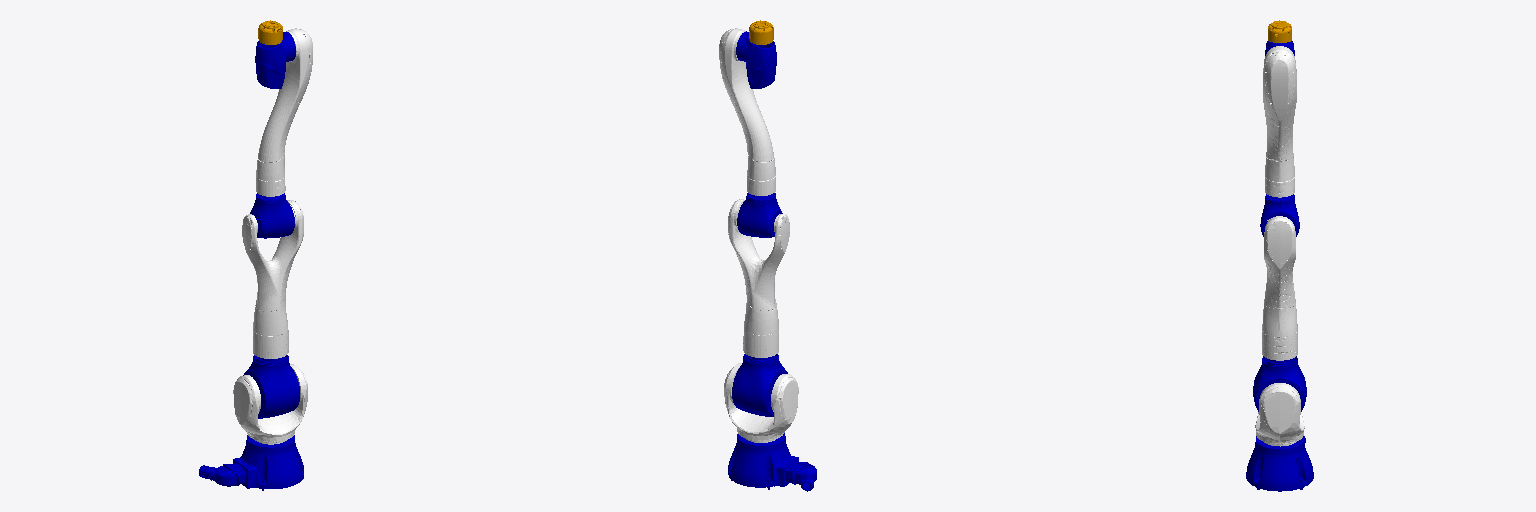
The robot description file, URDF, robot "mira":
<?xml version="1.0" ?>
<!-- =================================================================================== -->
<!-- |    This document was autogenerated by xacro from mira.urdf.xacro                | -->
<!-- |    EDITING THIS FILE BY HAND IS NOT RECOMMENDED                                 | -->
<!-- =================================================================================== -->
<robot name="mira" xmlns:controller="http://playerstage.sourceforge.net/gazebo/xmlschema/#controller" xmlns:interface="http://playerstage.sourceforge.net/gazebo/xmlschema/#interface" xmlns:sensor="http://playerstage.sourceforge.net/gazebo/xmlschema/#sensor" xmlns:xacro="http://wiki.ros.org/xacro">
  <!-- arm -->
  <!-- Encoder offsets are not included here but set in a separate config file -->
  <material name="blue">
    <color rgba="0 0 0.8 1"/>
  </material>
  <material name="white">
    <color rgba="1 1 1 1"/>
  </material>
  <material name="MelonYellow">
    <color rgba="1.0 0.6 0.0 1.0"/>
  </material>
  <link name="root_link">
		</link>
  <joint name="root_joint" type="fixed">
    <!-- joint1 base_to_right_leg 0.2945 -->
    <origin rpy="0 0 1.5708" xyz="0 0 0.0"/>
    <axis xyz="0 0 1"/>
    <parent link="root_link"/>
    <child link="base_link"/>
  </joint>
  <link name="base_link">
    <!-- link0 -->
    <inertial>
      <mass value="9.02994035"/>
      <origin rpy="0 0 0" xyz="-0.00864914 0.00066084 0.09191042"/>
      <!-- did not chenge inertia values -->
      <inertia ixx="0.04871169" ixy="0.00072792" ixz="-0.00354042" iyy="0.06082174" iyz="0.00036285" izz="0.06803946"/>
    </inertial>
    <visual>
      <origin rpy="0 0 0" xyz="0 0 0"/>
      <geometry>
        <mesh filename="package://mira_description/meshes/mira/Link0.stl"/>
      </geometry>
      <material name="blue"/>
    </visual>
    <collision>
      <origin rpy="0 0 0" xyz="0 0 0"/>
      <geometry>
        <mesh filename="package://mira_description/meshes/collision/Link0.stl"/>
      </geometry>
      <material name="blue"/>
    </collision>
  </link>
  <link name="link1">
    <!-- link1 right_leg-->
    <inertial>
      <mass value="8.81388995"/>
      <origin rpy="0 0 0" xyz="0.00009227 0.01727770 -0.09151695"/>
      <inertia ixx="0.11695855" ixy="-0.00006599" ixz="-0.00007443" iyy="0.09523956" iyz="-0.01391589" izz="0.05142057"/>
    </inertial>
    <visual>
      <origin rpy="0 0 0" xyz="0 0 0"/>
      <geometry>
        <mesh filename="package://mira_description/meshes/mira/Link1.stl"/>
      </geometry>
      <material name="white"/>
    </visual>
    <collision>
      <origin rpy="0 0 0" xyz="0 0 0"/>
      <geometry>
        <mesh filename="package://mira_description/meshes/collision/Link1.stl"/>
      </geometry>
      <material name="white"/>
    </collision>
  </link>
  <joint name="joint1" type="revolute">
    <!-- joint1 base_to_right_leg 0.2945 -->
    <origin rpy="0 0 0" xyz="0 0 0.353"/>
    <axis xyz="0 0 1"/>
    <limit effort="1260" lower="-4.7139" upper="4.7139" velocity="7.60"/>
    <parent link="base_link"/>
    <child link="link1"/>
  </joint>
  <link name="link2">
    <!-- link2 right_base -->
    <inertial>
      <mass value="10.73876455"/>
      <origin rpy="0 0 0" xyz="0.00005095 -0.02980593 0.00384129"/>
      <inertia ixx="0.08469338" ixy="-0.00000976" ixz="0.00000284" iyy="0.04466526" iyz="-0.00106970" izz="0.08929344"/>
    </inertial>
    <visual>
      <origin rpy="0 0 0" xyz="0 0 0"/>
      <geometry>
        <mesh filename="package://mira_description/meshes/mira/Link2.stl"/>
      </geometry>
      <material name="blue"/>
    </visual>
    <collision>
      <origin rpy="0 0 0" xyz="0 0 0"/>
      <geometry>
        <mesh filename="package://mira_description/meshes/collision/Link2.stl"/>
      </geometry>
      <material name="blue"/>
    </collision>
  </link>
  <joint name="joint2" type="revolute">
    <!-- joint2 right_base_joint -->
    <origin rpy="-1.57039 0 0" xyz="-4.13079e-05 -5.3146e-06 -2.13721e-09"/>
    <axis xyz="0 0 1"/>
    <limit effort="710" lower="-2.11" upper="2.11" velocity="7.16"/>
    <safety_controller k_position="100" k_velocity="2" soft_lower_limit="-2.105948851735" soft_upper_limit="2.105948851735"/>
    <dynamics damping="13.0" friction="9.0"/>
    <parent link="link1"/>
    <child link="link2"/>
  </joint>
  <link name="link3">
    <!-- link3 right_front_wheel -->
    <inertial>
      <mass value="7.80048461"/>
      <origin rpy="0 0 0" xyz="0.00000508 -0.01311256 -0.29310398"/>
      <inertia ixx="0.37362453" ixy="-0.00000061" ixz="-0.00001502" iyy="0.36314616" iyz="0.02636093" izz="0.02643739"/>
    </inertial>
    <visual>
      <origin rpy="0 0 0" xyz="0 0 0"/>
      <geometry>
        <mesh filename="package://mira_description/meshes/mira/Link3.stl"/>
      </geometry>
      <material name="white"/>
    </visual>
    <collision>
      <origin rpy="0 0 0" xyz="0 0 0"/>
      <geometry>
        <mesh filename="package://mira_description/meshes/collision/Link3.stl"/>
      </geometry>
      <material name="white"/>
    </collision>
  </link>
  <joint name="joint3" type="revolute">
    <!-- joint3 right_front_wheel_joint -->
    <origin rpy="1.56916 0 0" xyz="7.86969e-05 -0.702307 0.00115197"/>
    <axis xyz="0 0 1"/>
    <limit effort="380" lower="-4.7139" upper="4.7139" velocity="9.43"/>
    <safety_controller k_position="100" k_velocity="2" soft_lower_limit="-3.05948851735" soft_upper_limit="3.05948851735"/>
    <dynamics damping="10.0" friction="4.5"/>
    <parent link="link2"/>
    <child link="link3"/>
  </joint>
  <link name="link4">
    <!-- link4 right_back_wheel -->
    <inertial>
      <mass value="4.90782352"/>
      <origin rpy="0 0 0" xyz="0.00000273   -0.02342897   -0.00561818"/>
      <inertia ixx="0.02108339" ixy="-0.00000071" ixz="-0.00000036" iyy="0.01108371" iyz="0.00064263" izz="0.02077348"/>
    </inertial>
    <visual>
      <origin rpy="0 0 0" xyz="0 0 0"/>
      <geometry>
        <mesh filename="package://mira_description/meshes/mira/Link4.stl"/>
      </geometry>
      <material name="blue"/>
    </visual>
    <collision>
      <origin rpy="0 0 0" xyz="0 0 0"/>
      <geometry>
        <mesh filename="package://mira_description/meshes/collision/Link4.stl"/>
      </geometry>
      <material name="blue"/>
    </collision>
  </link>
  <joint name="joint4" type="revolute">
    <!-- joint4 right_back_wheel_joint -->
    <origin rpy="-1.57108 0 0" xyz="0.000246029 -0.000361385 1.01006e-07"/>
    <axis xyz="0 0 1"/>
    <limit effort="70" lower="-2.61" upper="2.61" velocity="17.4"/>
    <safety_controller k_position="100" k_velocity="2" soft_lower_limit="-2.55948851735" soft_upper_limit="2.55948851735"/>
    <dynamics damping="2.5" friction="4.0"/>
    <parent link="link3"/>
    <child link="link4"/>
  </joint>
  <link name="link5">
    <!-- link5 left_leg -->
    <inertial>
      <mass value="5.89239887"/>
      <origin rpy="0 0 0" xyz="0.00003764   0.05360461   -0.27051890"/>
      <inertia ixx="0.34526601" ixy="-0.00001006" ixz="-0.00004889" iyy="0.33395748" iyz="-0.06425872" izz="0.02387784"/>
    </inertial>
    <visual>
      <origin rpy="0 0 0" xyz="0 0 0"/>
      <geometry>
        <mesh filename="package://mira_description/meshes/mira/Link5.stl"/>
      </geometry>
      <material name="white"/>
    </visual>
    <collision>
      <origin rpy="0 0 0" xyz="0 0 0"/>
      <geometry>
        <mesh filename="package://mira_description/meshes/collision/Link5.stl"/>
      </geometry>
      <material name="white"/>
      <!-- 
				<origin rpy="0 0 0" xyz="0 0 -0.23" />
				<geometry>
					<cylinder length="0.46" radius="0.115" />
				</geometry> -->
    </collision>
  </link>
  <joint name="joint5" type="revolute">
    <!-- joint5 base_to_left_leg -0.65 -->
    <origin rpy="-1.57208 -1.22465e-16 -3.14159" xyz="-0.000423097 -0.701012 -0.000901302"/>
    <axis xyz="0 0 1"/>
    <limit effort="80" lower="-4.7139" upper="4.7139" velocity="18.6"/>
    <safety_controller k_position="100" k_velocity="2" soft_lower_limit="-2.55948851735" soft_upper_limit="2.55948851735"/>
    <dynamics damping="5.0" friction="4.0"/>
    <parent link="link4"/>
    <child link="link5"/>
  </joint>
  <link name="link6">
    <!-- link6 left_base -->
    <inertial>
      <mass value="2.76974945"/>
      <origin rpy="0 0 0" xyz="0.00007333   0.01105196   0.02462915"/>
      <inertia ixx="0.00955946" ixy="-0.00001486" ixz="0.00000146" iyy="0.00723805" iyz="0.00066557" izz="0.00641809"/>
    </inertial>
    <visual>
      <origin rpy="0 0 0" xyz="0 0 0"/>
      <geometry>
        <mesh filename="package://mira_description/meshes/mira/Link6.stl"/>
      </geometry>
      <material name="blue"/>
    </visual>
    <collision>
      <origin rpy="0 0 0" xyz="0 0 0"/>
      <geometry>
        <mesh filename="package://mira_description/meshes/collision/Link6.stl"/>
      </geometry>
      <material name="blue"/>
    </collision>
  </link>
  <joint name="joint6" type="revolute">
    <!-- joint6 -->
    <origin rpy="-1.57066 0 0" xyz="-6.36962e-05 -0.000667725 -9.36304e-08"/>
    <axis xyz="0 0 1"/>
    <limit effort="21" lower="-4.7124" upper="4.7124" velocity="25.3"/>
    <safety_controller k_position="100" k_velocity="2" soft_lower_limit="-4.0" soft_upper_limit="4.0"/>
    <dynamics damping="1.25" friction="1.25"/>
    <parent link="link5"/>
    <child link="link6"/>
  </joint>
  <link name="link7">
    <inertial>
      <mass value="1.19341401"/>
      <origin rpy="0 0 0" xyz="-0.00006102   0.00027280   0.04324279"/>
      <inertia ixx="0.00254735" ixy="-0.00000278" ixz="-0.00000158" iyy="0.00255260" iyz="-0.00000991" izz="0.00099944"/>
    </inertial>
    <visual>
      <origin rpy="0 0 0" xyz="0 0 0"/>
      <geometry>
        <mesh filename="package://mira_description/meshes/mira/Link7.stl"/>
      </geometry>
    </visual>
    <collision>
      <origin rpy="0 0 0" xyz="0 0 0"/>
      <geometry>
        <mesh filename="package://mira_description/meshes/collision/Link7.stl"/>
      </geometry>
    </collision>
  </link>
  <joint name="joint7" type="revolute">
    <!-- joint7 -->
    <origin rpy="1.56449 0 0" xyz="9.93449e-05 0 0"/>
    <axis xyz="0 0 1"/>
    <limit effort="10" lower="-6.2832" upper="6.2832" velocity="10"/>
    <safety_controller k_position="10" k_velocity="1" soft_lower_limit="-4.0" soft_upper_limit="4.0"/>
    <dynamics damping="2" friction="2"/>
    <parent link="link6"/>
    <child link="link7"/>
  </joint>
  <link name="tool0"/>
  <joint name="link7_to_tool0" type="fixed">
    <!-- joint7 -->
    <origin rpy="0 0 0" xyz="0 0 0.10"/>
    <parent link="link7"/>
    <child link="tool0"/>
  </joint>
  <link name="flange"/>
  <joint name="link7_to_flange" type="fixed">
    <!-- joint7 -->
    <origin rpy="0 0 0" xyz="0 0 0.10"/>
    <parent link="link7"/>
    <child link="flange"/>
  </joint>
  <link name="ee_link"/>
  <joint name="flange_to_ee_link" type="fixed">
    <!-- joint7 -->
    <origin rpy="0 0 0" xyz="0 0 0.10"/>
    <parent link="link7"/>
    <child link="ee_link"/>
  </joint>
  <link name="world"/>
  <joint name="world_joint" type="fixed">
    <parent link="world"/>
    <child link="root_link"/>
    <origin rpy="0.0 0.0 0.0" xyz="0.0 0.0 0.0"/>
  </joint>
</robot>

--- What the picture shows (computed from the rendered views, not written in the file) ---
3 views of the same robot in one strip: view 1: azimuth 30°, elevation 25°; view 2: azimuth 150°, elevation 25°; view 3: azimuth 270°, elevation 25° (orthographic).
Robot: mira — 13 links, 12 joints (7 revolute, 5 fixed); root link world; default pose: all joints at 0.
Visible links, largest first — view 1: link3, link5, base_link, link1, link2, link6, link4, link7; view 2: link3, link5, base_link, link1, link2, link6, link4, link7; view 3: link3, link5, base_link, link1, link2, link4.
Link boxes in pixels (left/top/right/bottom): link3: left=242, top=200, right=303, bottom=358; link5: left=256, top=28, right=312, bottom=196; base_link: left=199, top=435, right=303, bottom=490; link1: left=233, top=364, right=307, bottom=444; link2: left=243, top=355, right=299, bottom=418; link6: left=255, top=32, right=295, bottom=88; link4: left=250, top=193, right=294, bottom=238; link7: left=258, top=20, right=282, bottom=44; link3: left=728, top=199, right=789, bottom=357; link5: left=719, top=28, right=775, bottom=195; base_link: left=728, top=433, right=816, bottom=491; link1: left=724, top=363, right=798, bottom=442; link2: left=732, top=354, right=787, bottom=416; link6: left=736, top=31, right=776, bottom=88; link4: left=737, top=193, right=782, bottom=237; link7: left=749, top=20, right=773, bottom=44; link3: left=1262, top=216, right=1297, bottom=360; link5: left=1263, top=46, right=1296, bottom=197; base_link: left=1246, top=436, right=1313, bottom=491; link1: left=1255, top=383, right=1304, bottom=446; link2: left=1253, top=356, right=1306, bottom=411; link4: left=1260, top=194, right=1299, bottom=236.
Bounding box of the posed robot: 0.4336 × 0.251 × 1.88 m (x, y, z).
Meshes: 8 distinct files referenced, 8 mesh visuals loaded (8 binary STL).
